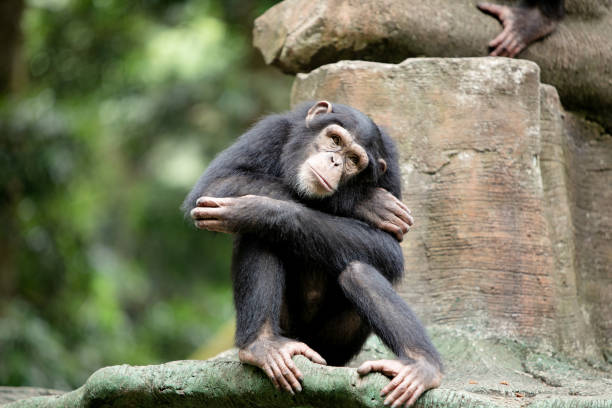chimpanzee: (267, 88, 391, 212)
